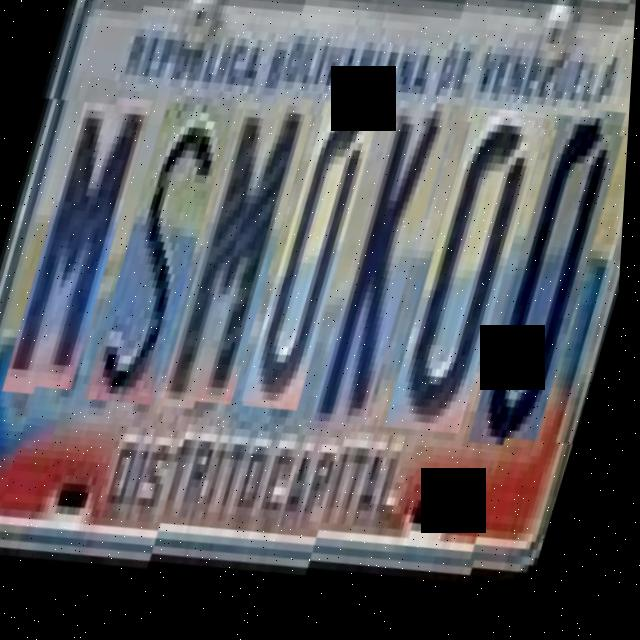0: (382, 113, 554, 460), (466, 124, 632, 475), (242, 96, 390, 421)
K: (308, 106, 460, 445)
M: (161, 84, 324, 414), (6, 73, 161, 386)
S: (87, 83, 243, 404)
